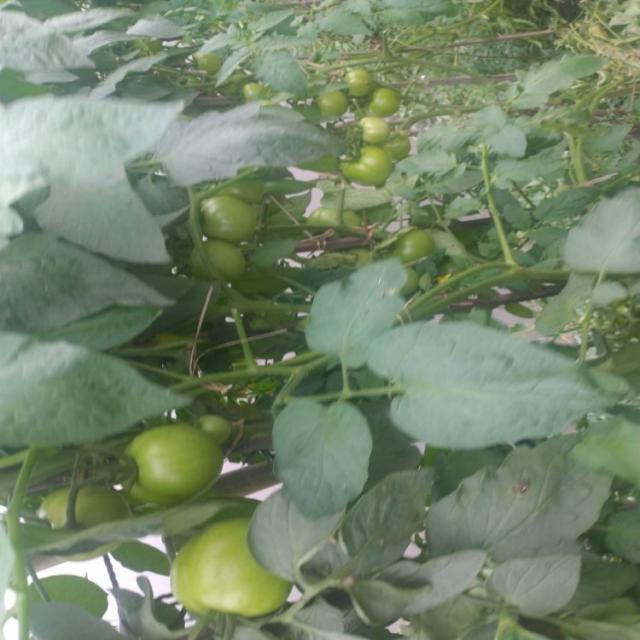tomato: (170, 515, 283, 625), (124, 425, 229, 504), (42, 483, 129, 557), (185, 234, 257, 289), (195, 188, 267, 241), (329, 143, 400, 195), (385, 227, 449, 271), (308, 206, 360, 242), (320, 80, 357, 124), (337, 65, 382, 101), (368, 85, 403, 123), (353, 116, 388, 151), (378, 136, 419, 161), (242, 84, 272, 107)
